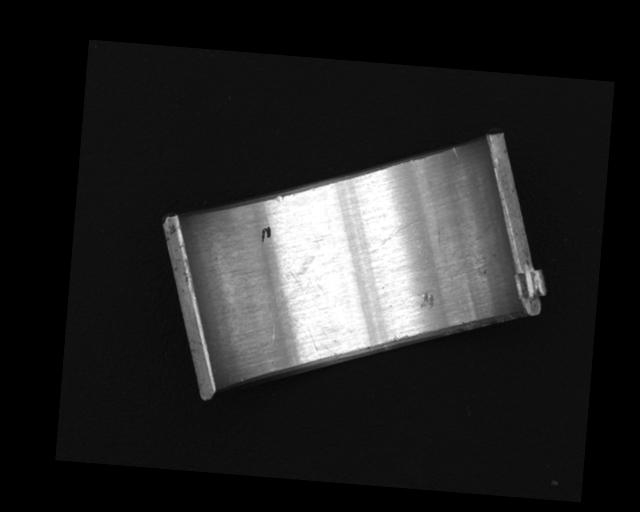blot: (280, 249, 322, 298), (260, 223, 272, 244)
bruise: (419, 291, 435, 311), (276, 194, 284, 202)
nick: (369, 216, 419, 259), (451, 146, 461, 158)
